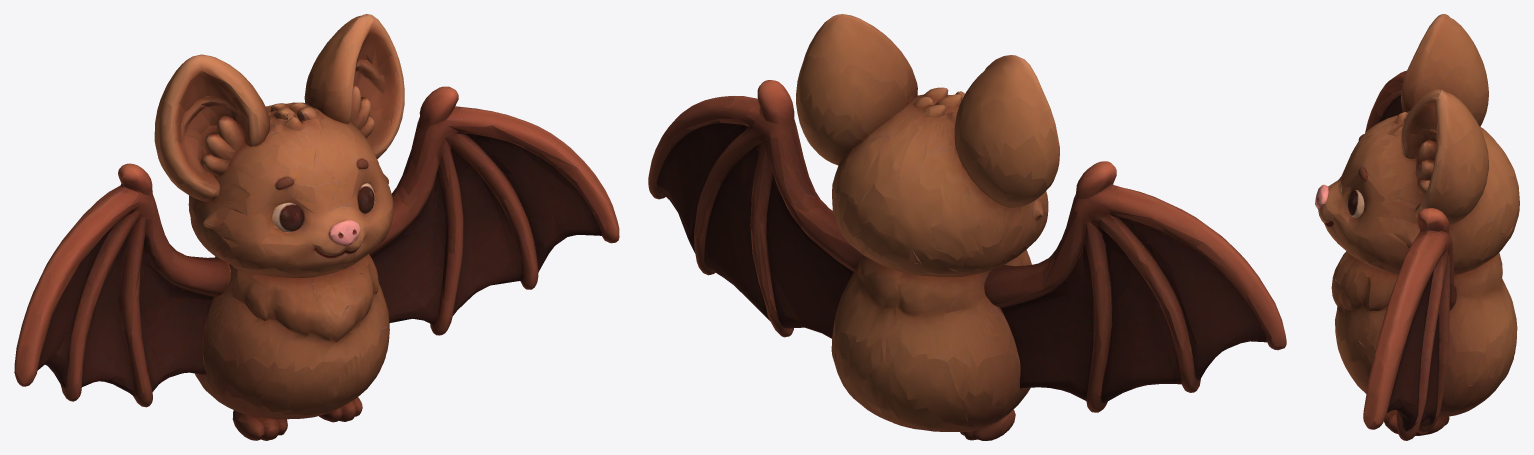
The model's file is vleermuis.glb.
3 views of the same model, side by side, from view 1: azimuth 30°, elevation 25°; view 2: azimuth 150°, elevation 25°; view 3: azimuth 270°, elevation 25° (orthographic). The views are drawn at different scales.
Visible parts, largest first — view 1: Mesh_0; view 2: Mesh_0; view 3: Mesh_0.
Boxes of the visible parts, x1,y1,x2,y2 form: Mesh_0: (14,14,619,440); Mesh_0: (648,14,1286,440); Mesh_0: (1315,14,1519,440).
Bounding box in the file's own units: 1.9 × 1.14 × 0.5901.
1 material, 1 textured.
